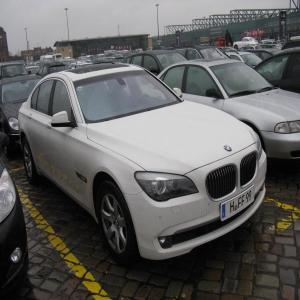Vehicle-registration-plate: (221, 189, 256, 223)
